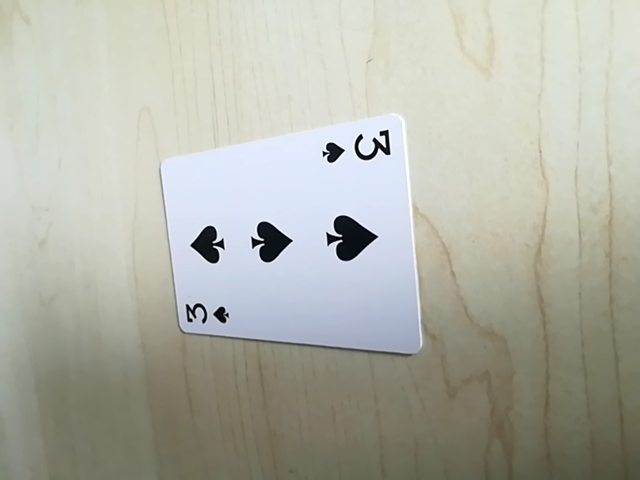ht 3: (319, 126, 398, 170), (177, 296, 233, 332)
